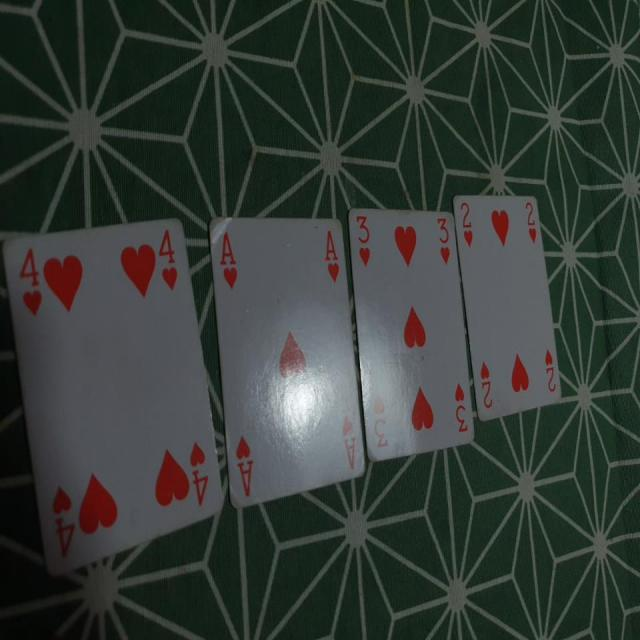2 Hearts: (450, 188, 568, 425)
3 Hearts: (345, 207, 476, 464)
4 Hearts: (1, 214, 228, 579)
A Hearts: (205, 210, 372, 506)
